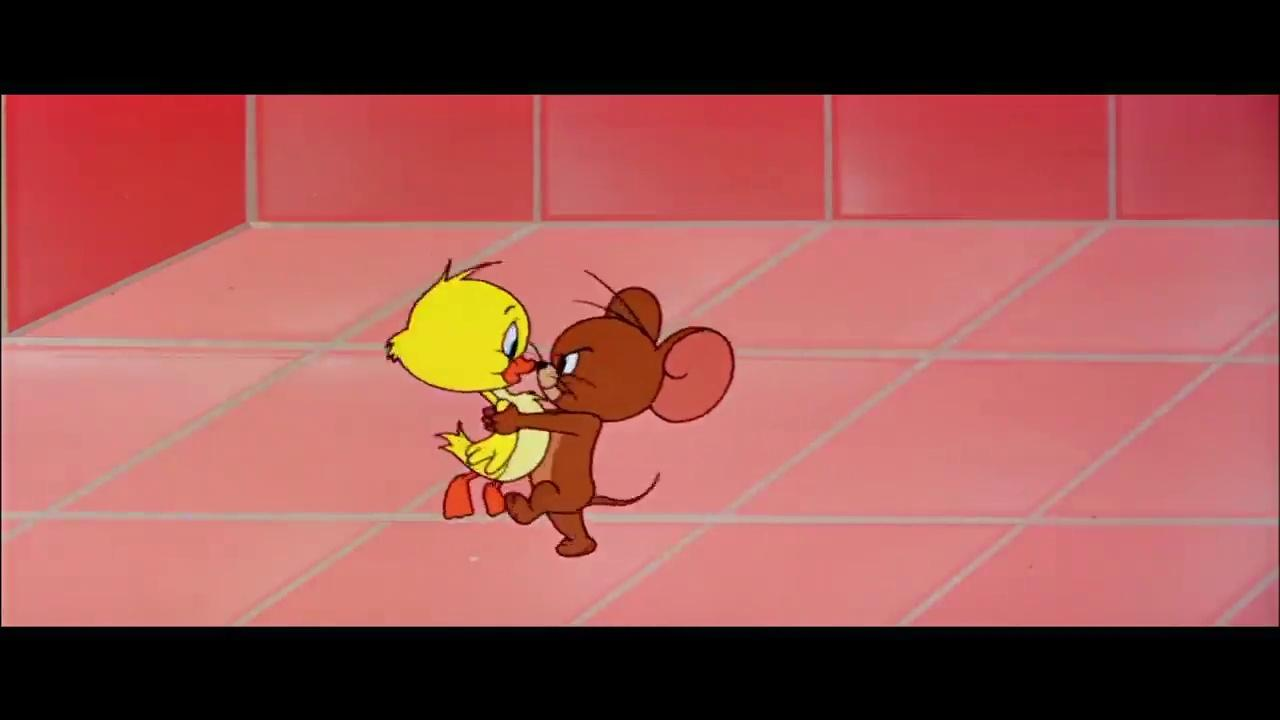Jerry: (480, 265, 735, 559)
